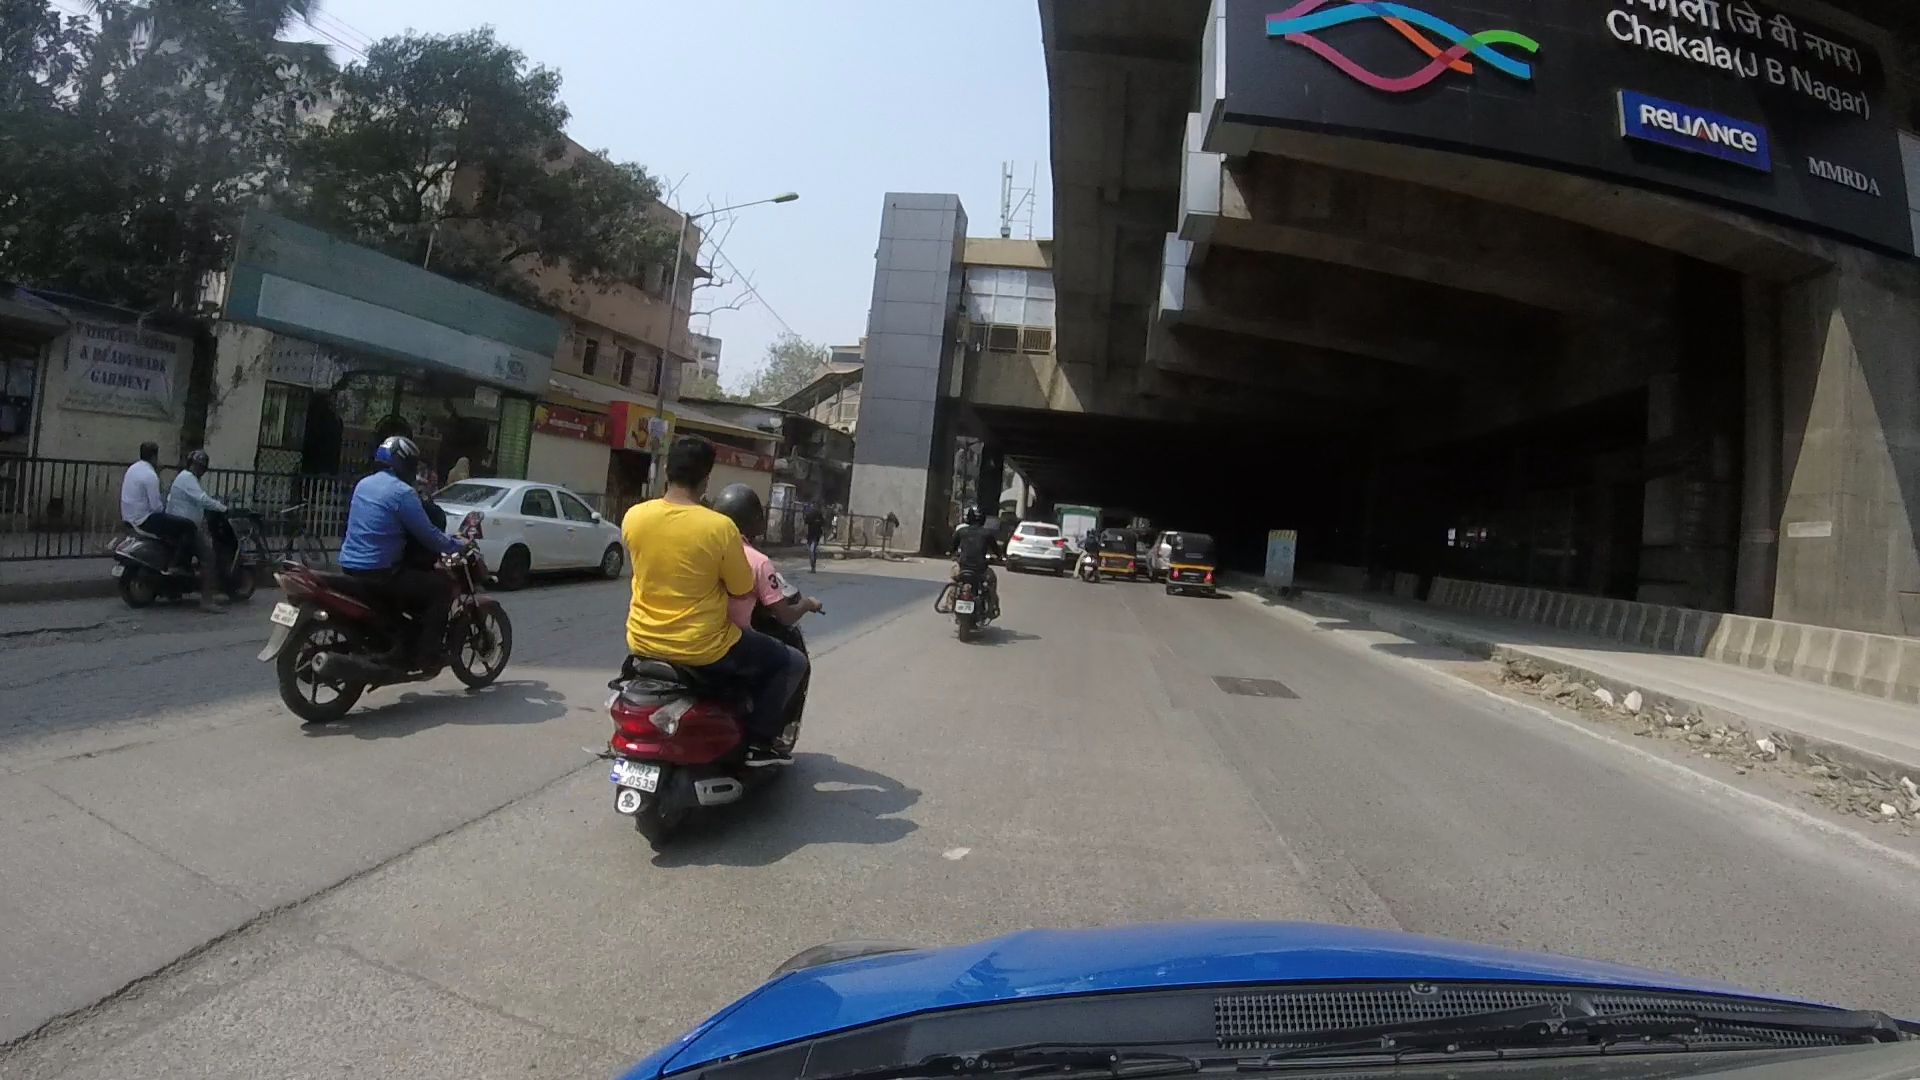bike/scooter: (596, 439, 796, 843), (272, 422, 516, 719), (99, 444, 261, 611), (943, 492, 1013, 647)
rickshaw: (1158, 522, 1205, 604)
